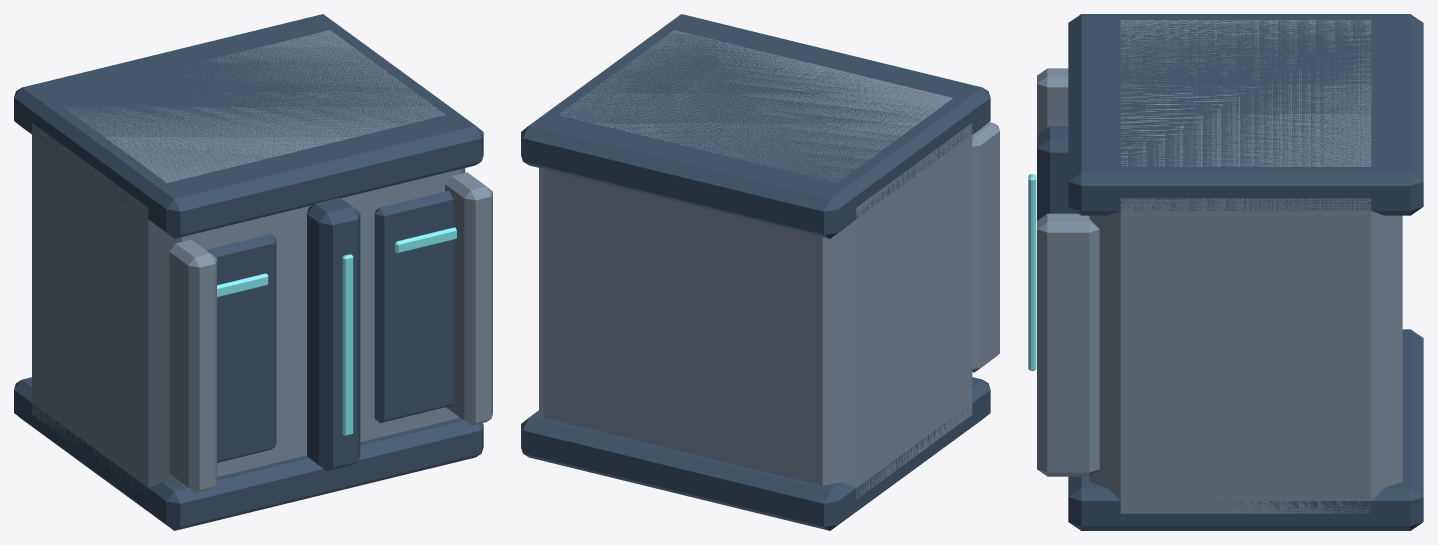
File: SplitPylon.fbx
3 views of the same model, side by side, from view 1: azimuth 30°, elevation 25°; view 2: azimuth 150°, elevation 25°; view 3: azimuth 270°, elevation 25° (orthographic). The views are drawn at different scales.
Parts seen in each view (by area): view 1: SplitPylonMesh; view 2: SplitPylonMesh; view 3: SplitPylonMesh.
Boxes of the visible parts, x1,y1,x2,y2 form: SplitPylonMesh: [14, 14, 492, 530]; SplitPylonMesh: [521, 14, 999, 530]; SplitPylonMesh: [1028, 14, 1423, 530].
Bounding box in the file's own units: 1 × 1 × 1.
